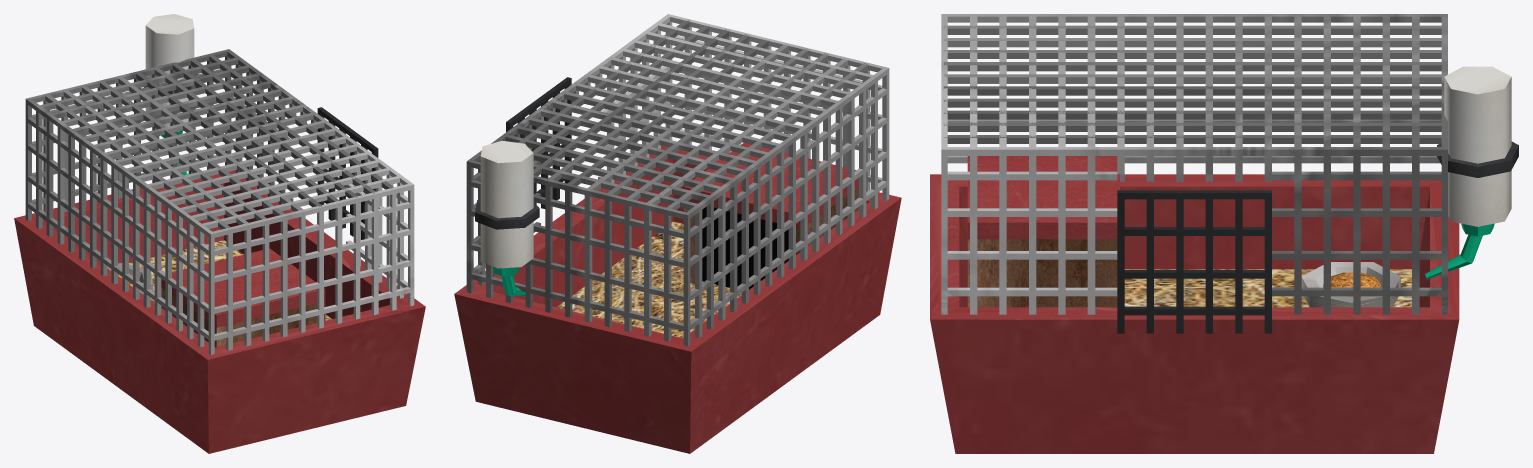
The model's file is cage.FBX.
3 renders of one model, left to right at view 1: azimuth 30°, elevation 25°; view 2: azimuth 150°, elevation 25°; view 3: azimuth 270°, elevation 25°, orthographic. The views are drawn at different scales.
Visible parts, largest first — view 1: Object002, Box001, Object006, w, Object001, Box003, Box002; view 2: Object002, Box001, w, Box002, Object006, Object003, Object001, Object004, Box003, Object005; view 3: Box001, Object002, Object001, w, Object006, Box003, Box002, Cylinder001, Object004, Object005, Sphere001.
Boxes of the visible parts, bbox=[...] form: Object002: bbox=[25, 49, 414, 354]; Box001: bbox=[14, 170, 425, 453]; Object006: bbox=[161, 248, 325, 327]; w: bbox=[145, 14, 194, 131]; Object001: bbox=[317, 107, 378, 239]; Box003: bbox=[161, 287, 325, 347]; Box002: bbox=[129, 240, 331, 320]; Object002: bbox=[466, 14, 889, 346]; Box001: bbox=[454, 145, 901, 453]; w: bbox=[480, 140, 533, 268]; Box002: bbox=[556, 221, 741, 338]; Object006: bbox=[683, 143, 858, 228]; Object003: bbox=[702, 207, 788, 289]; Object001: bbox=[506, 77, 571, 208]; Object004: bbox=[475, 199, 539, 229]; Box003: bbox=[683, 187, 858, 283]; Object005: bbox=[492, 266, 525, 296]; Box001: bbox=[930, 174, 1459, 453]; Object002: bbox=[941, 14, 1447, 314]; Object001: bbox=[1117, 190, 1271, 333]; w: bbox=[1444, 66, 1511, 226]; Object006: bbox=[967, 157, 1119, 239]; Box003: bbox=[967, 239, 1117, 307]; Box002: bbox=[1124, 269, 1411, 307]; Cylinder001: bbox=[1301, 262, 1400, 307]; Object004: bbox=[1437, 141, 1518, 177]; Object005: bbox=[1425, 223, 1494, 279]; Sphere001: bbox=[1323, 272, 1380, 297].
Bounding box in the file's own units: 1271 × 1281 × 1985.
10 materials, 10 textured.
